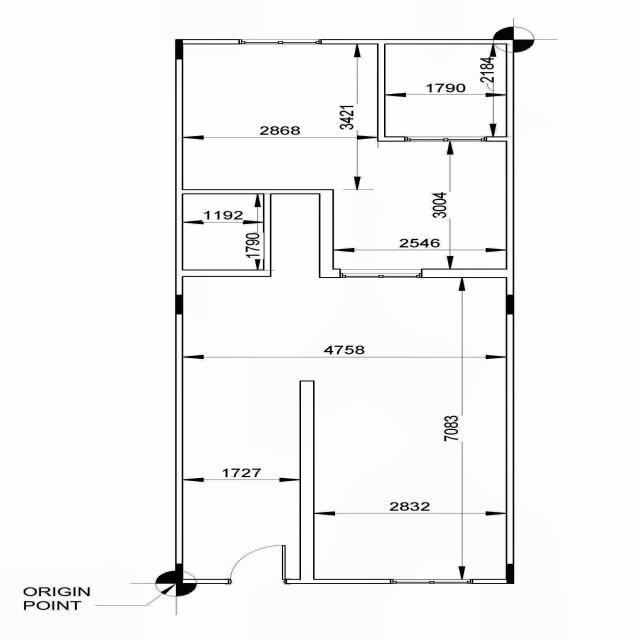Column: (505, 294, 515, 315), (175, 562, 183, 586), (174, 39, 183, 60), (175, 294, 183, 316), (506, 563, 514, 584)
Door: (216, 542, 293, 584)
Window: (336, 267, 424, 280), (388, 576, 476, 586), (232, 38, 330, 46), (397, 134, 490, 142)
